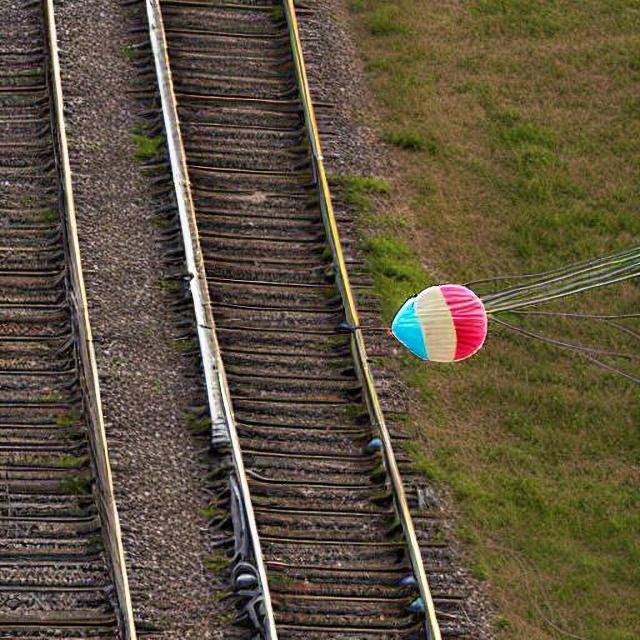balloon: (363, 267, 495, 374)
